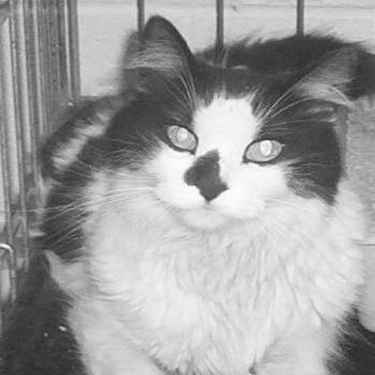cat: (12, 14, 366, 367)
